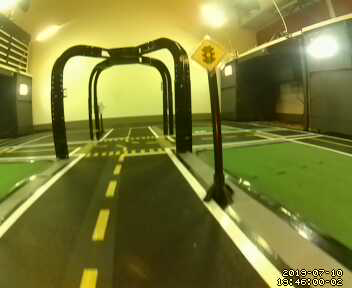Traffic light sign: (192, 36, 226, 70)
